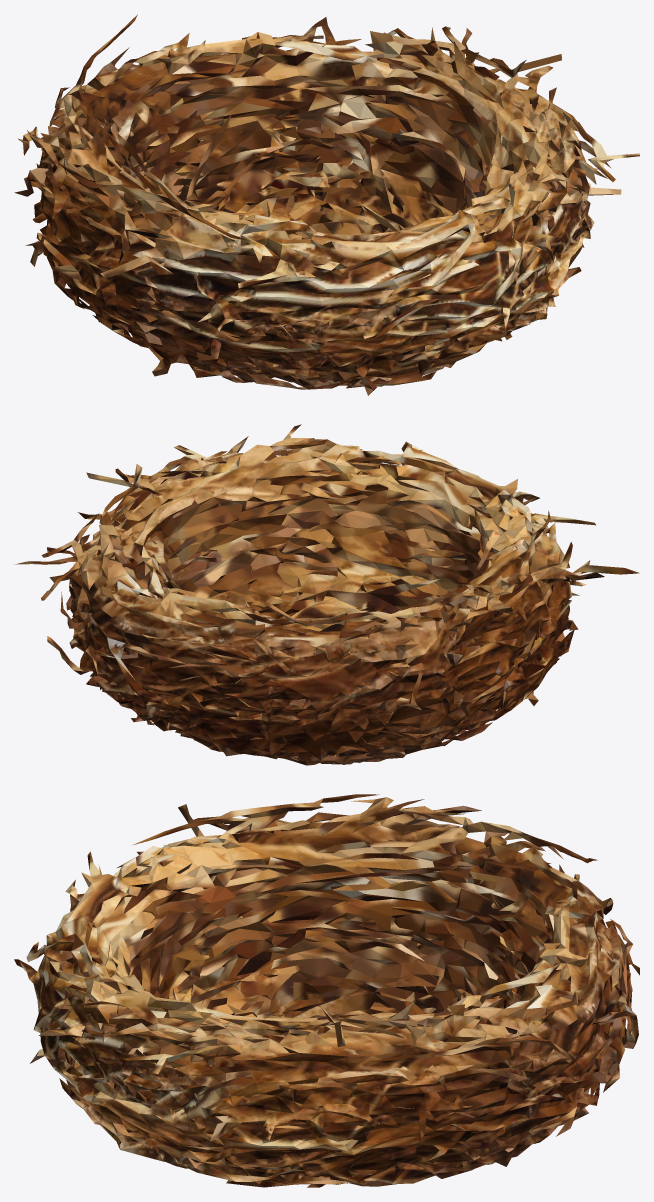
Rendered from traveler_env_coast_egg_nest_00001_.glb.
3 renders of one model, top to bottom at view 1: azimuth 30°, elevation 25°; view 2: azimuth 150°, elevation 25°; view 3: azimuth 270°, elevation 25°, orthographic. The views are drawn at different scales.
Parts seen in each view (by area): view 1: temp_mesh.ply; view 2: temp_mesh.ply; view 3: temp_mesh.ply.
Boxes of the visible parts, <box> form: temp_mesh.ply: <box>14,14,639,395</box>; temp_mesh.ply: <box>14,424,639,765</box>; temp_mesh.ply: <box>14,794,639,1187</box>.
Size of the model in its own units: 1.98 by 0.7779 by 1.88.
1 material, 1 textured.
